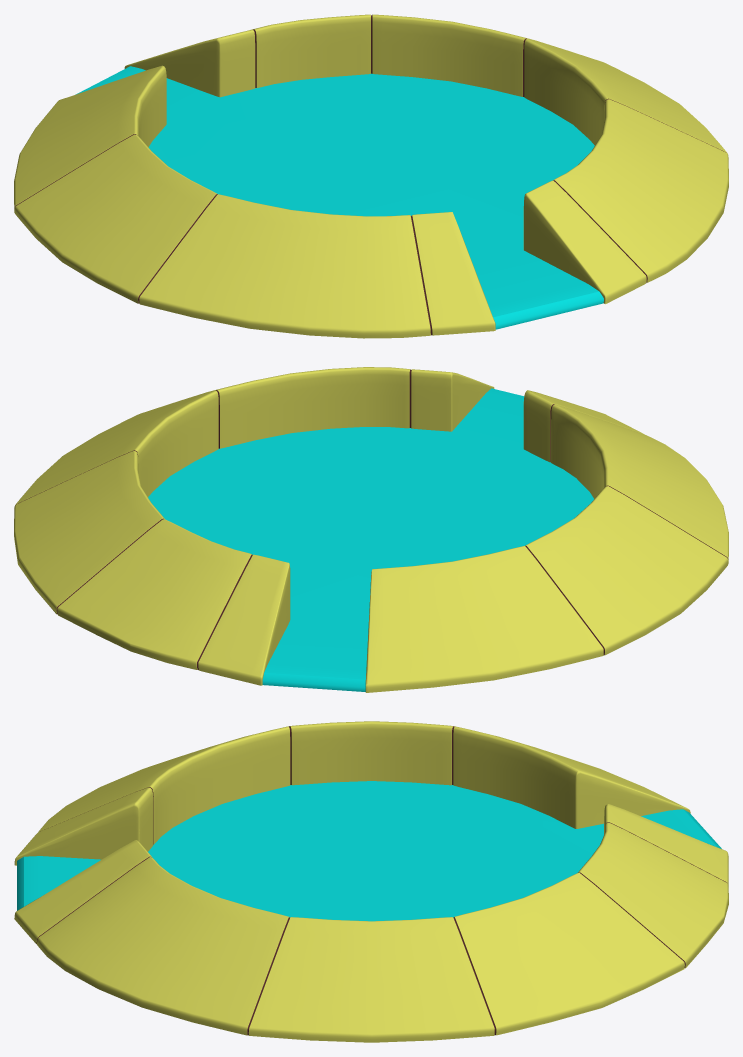
Rendered from SmoothedFoundationFloor.fbx.
The picture shows the model from 3 angles, top to bottom: view 1: azimuth 30°, elevation 25°; view 2: azimuth 150°, elevation 25°; view 3: azimuth 270°, elevation 25°; orthographic projection.
Visible parts, largest first — view 1: SmoothedFoundationFloor; view 2: SmoothedFoundationFloor; view 3: SmoothedFoundationFloor.
Boxes of the visible parts, x1,y1,x2,y2 form: SmoothedFoundationFloor: (14, 14, 728, 338); SmoothedFoundationFloor: (14, 367, 728, 692); SmoothedFoundationFloor: (14, 721, 728, 1042).
Bounding box in the file's own units: 1408 × 1409 × 153.
